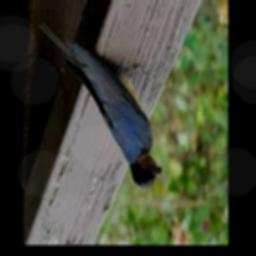Swallow: (39, 21, 161, 190)
